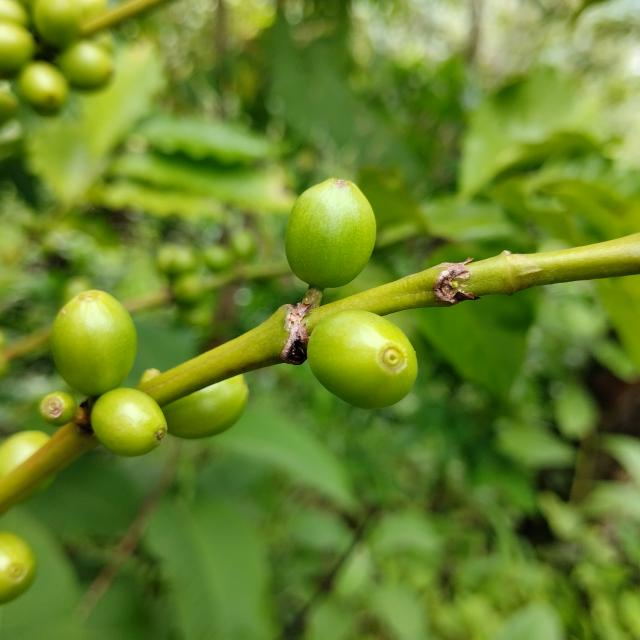green: (307, 310, 418, 409), (285, 178, 376, 289), (50, 290, 136, 396), (162, 375, 248, 439), (90, 389, 167, 457), (0, 533, 35, 605), (0, 431, 49, 479), (38, 392, 76, 426)
